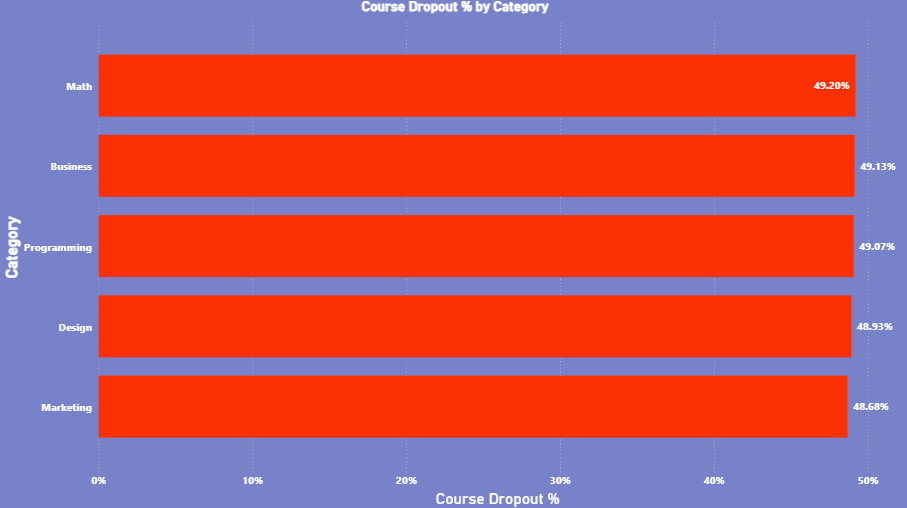

The page's visual inventory and layout, read from the dashboard file:
{"tool":"powerbi","page":{"name":"Category Analysis","canvas":[1280,720],"ordinal":2},"visuals":[{"type":"clusteredBarChart","fields":{"Y":["final_data.Course Dropout %"],"Category":["final_data.Category"]},"box":[0,0,1280.7,719.3],"z":0}]}

Visuals, with their boxes in screenshot pixels (x1, y1, x2, y2), scaled from the page's 1280x720 canvas onto the 907x508 screenshot:
clusteredBarChart - final_data.Course Dropout % x final_data.Category: {"x1": 0, "y1": 0, "x2": 906, "y2": 507}
